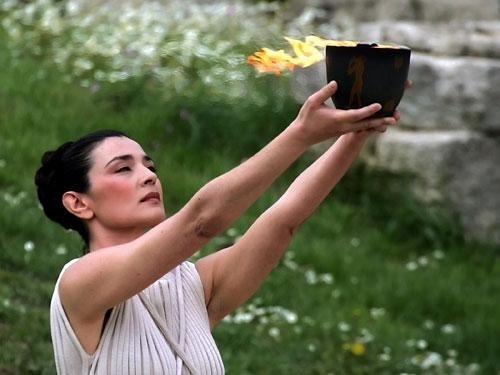fire: (243, 35, 340, 72)
